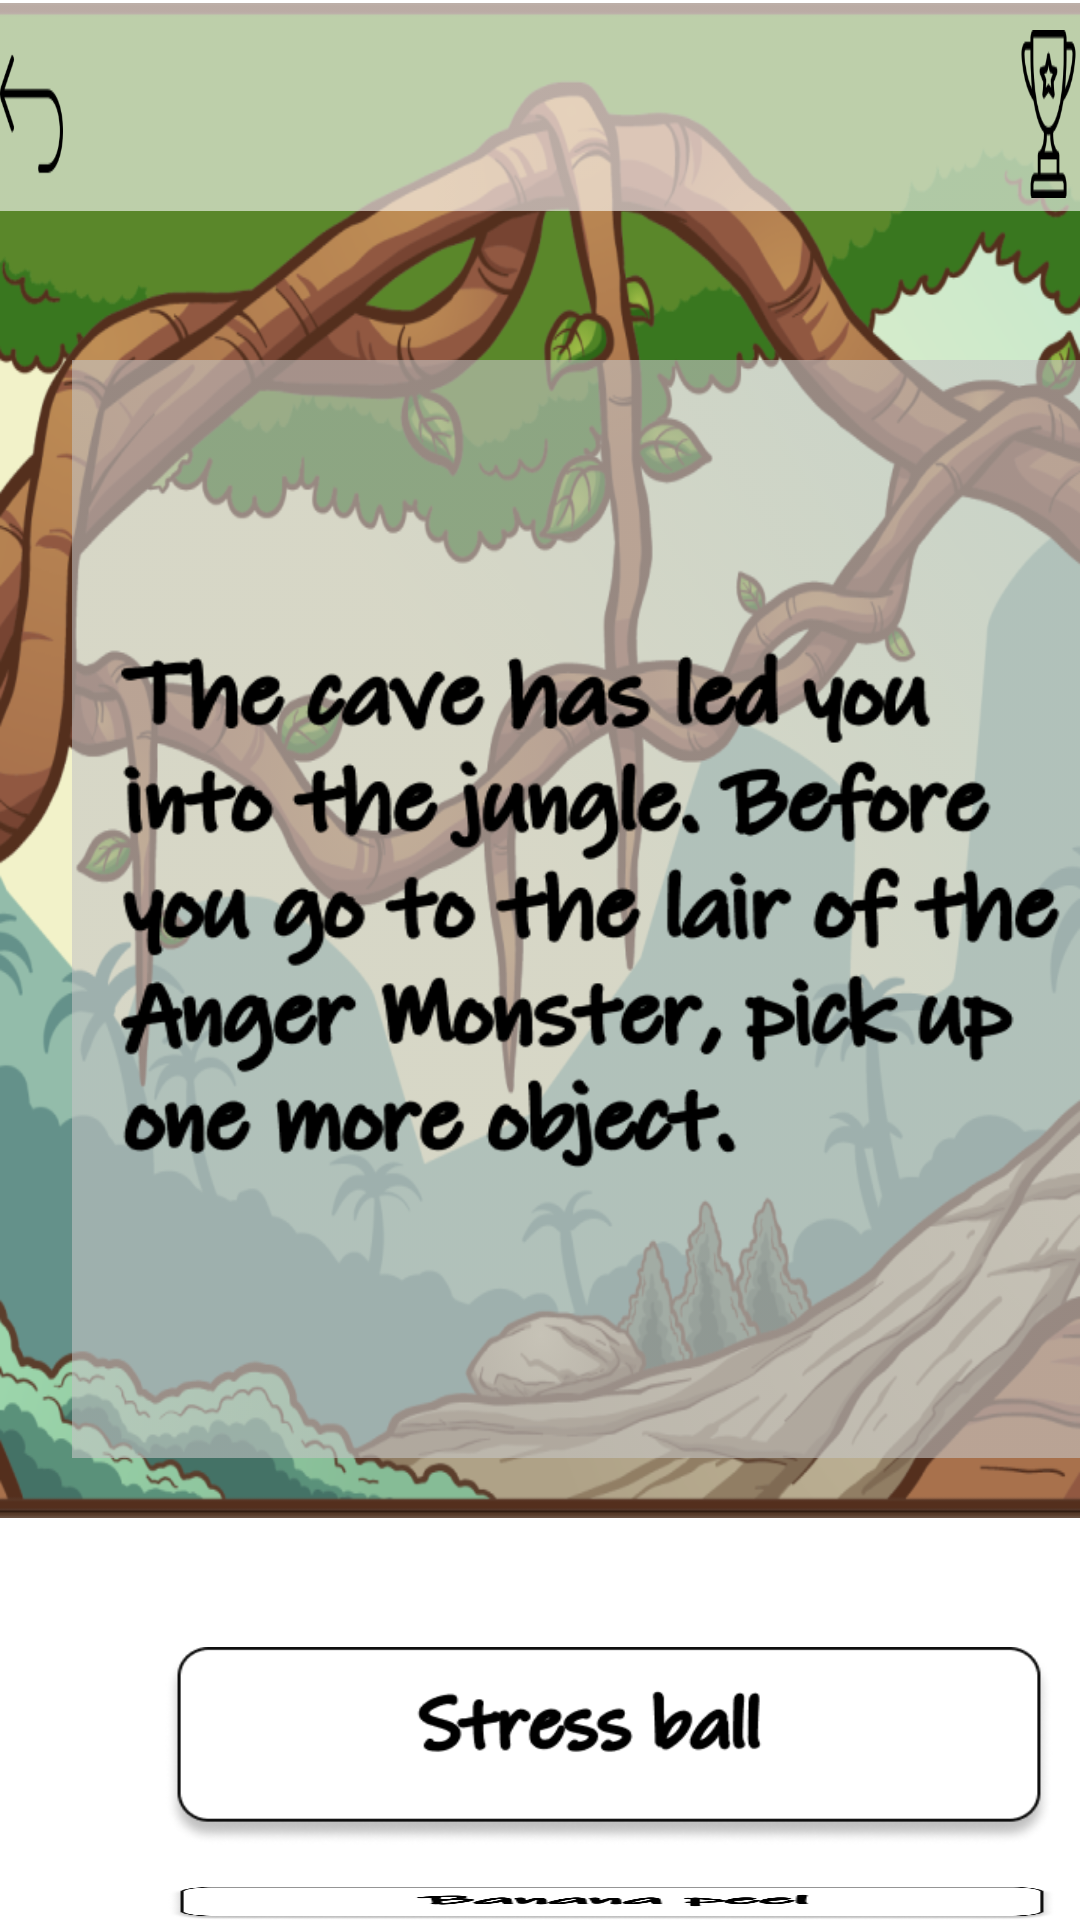

Named icons in this screenshot (1080x1920) and their centers, (x=x, y=y):
trophy: (x=1046, y=114)
